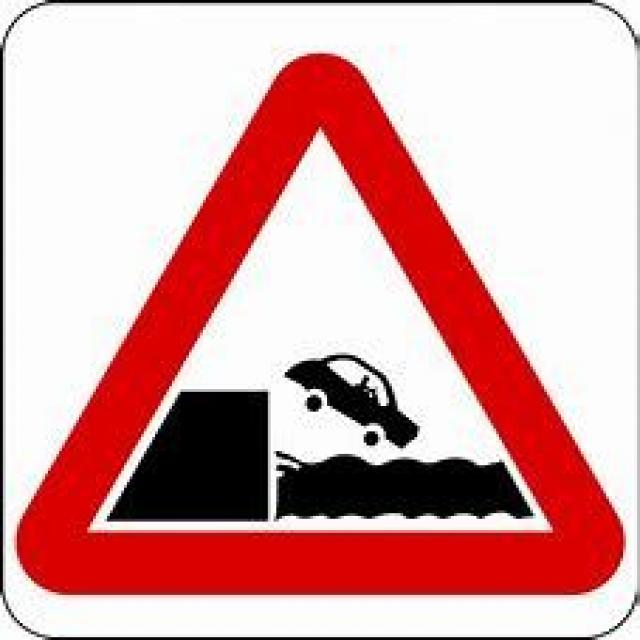QUAY_SIDE_OR_RIVER_BANK: (14, 48, 623, 595)
